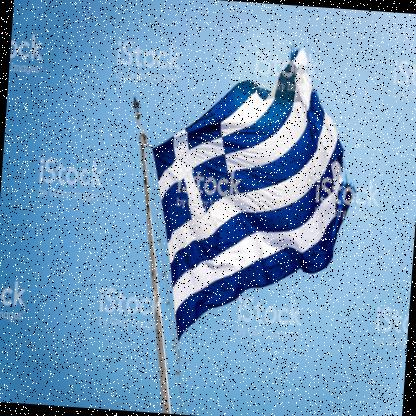gr: (143, 42, 366, 353)
